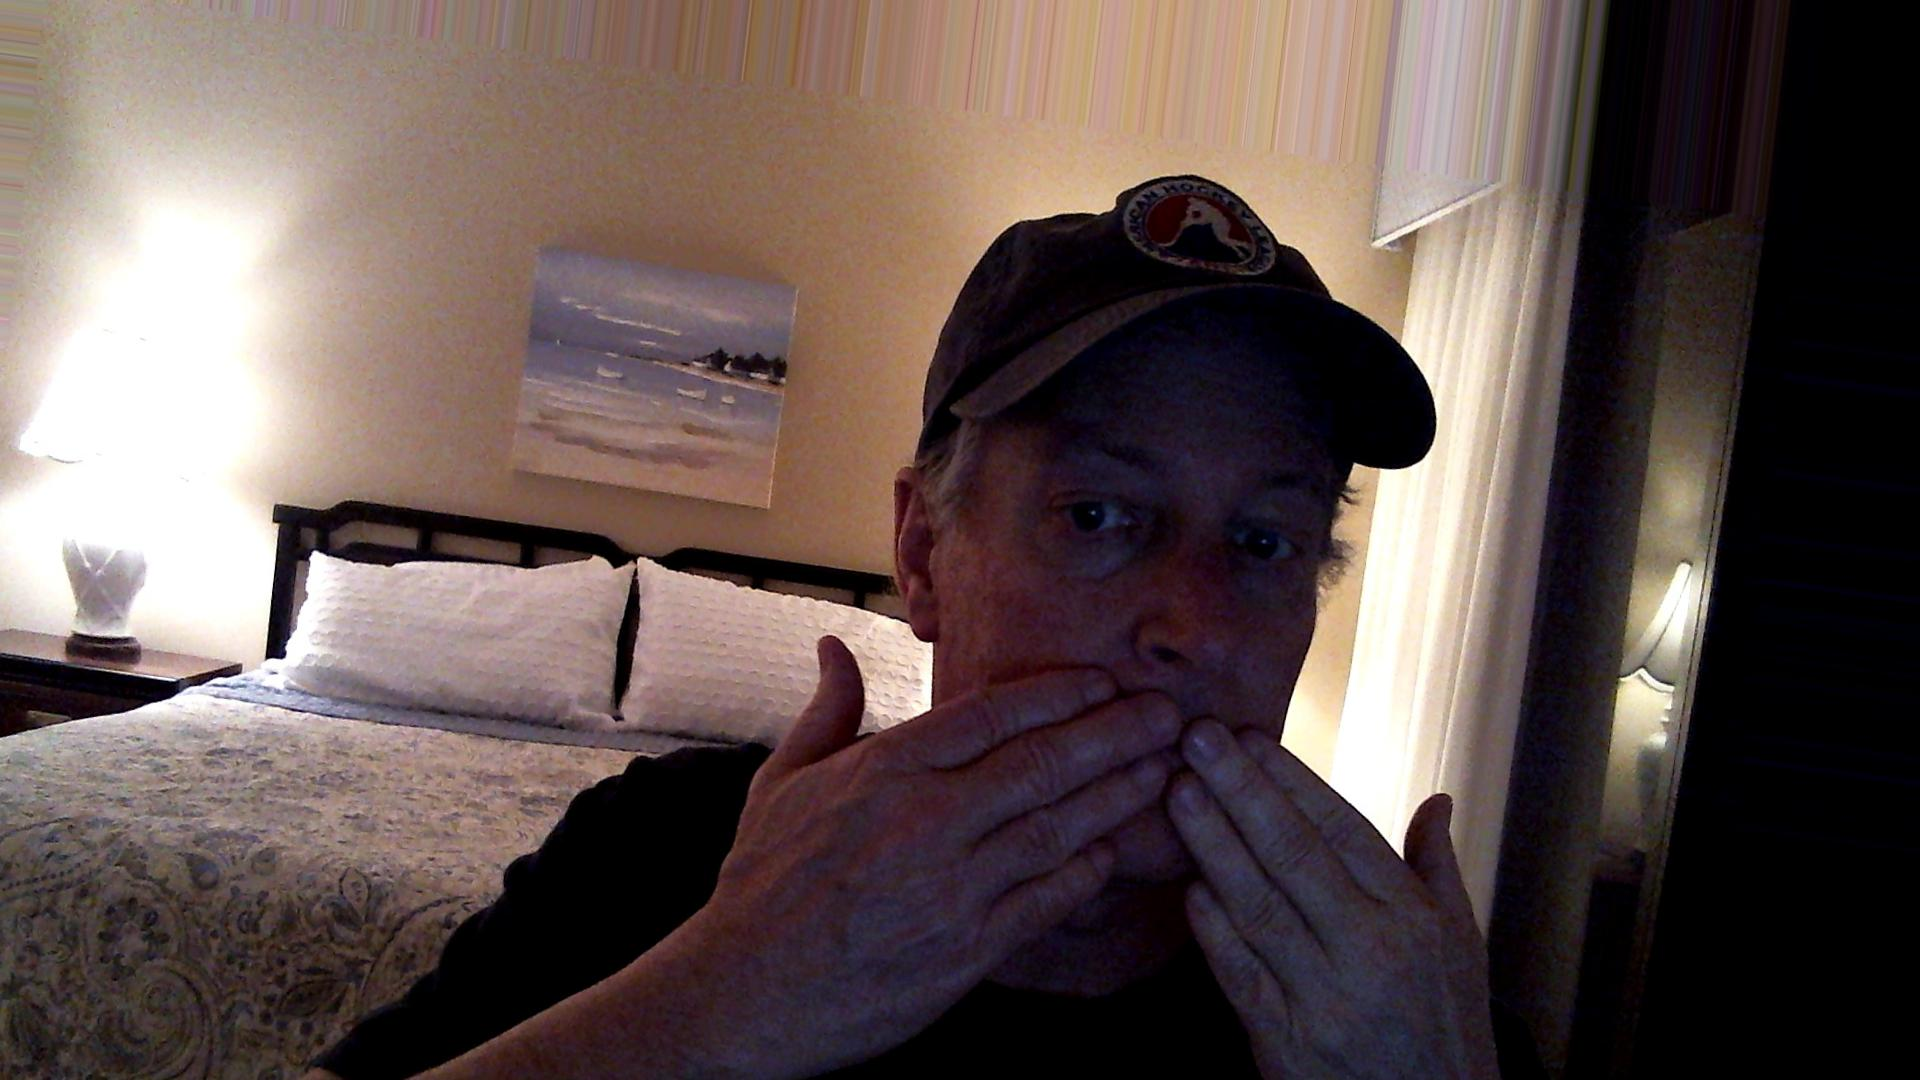Thank You: (707, 620, 1531, 1044)
